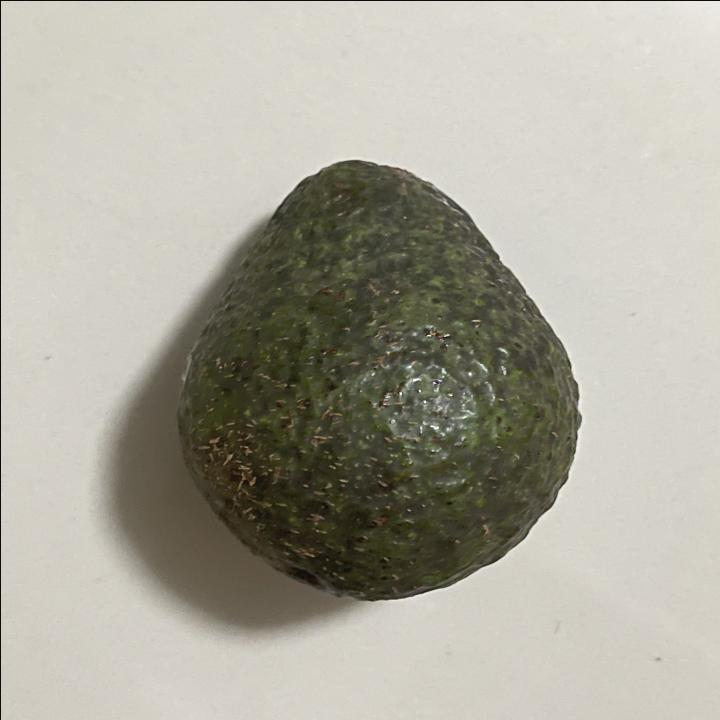Level1: (157, 144, 593, 610)
